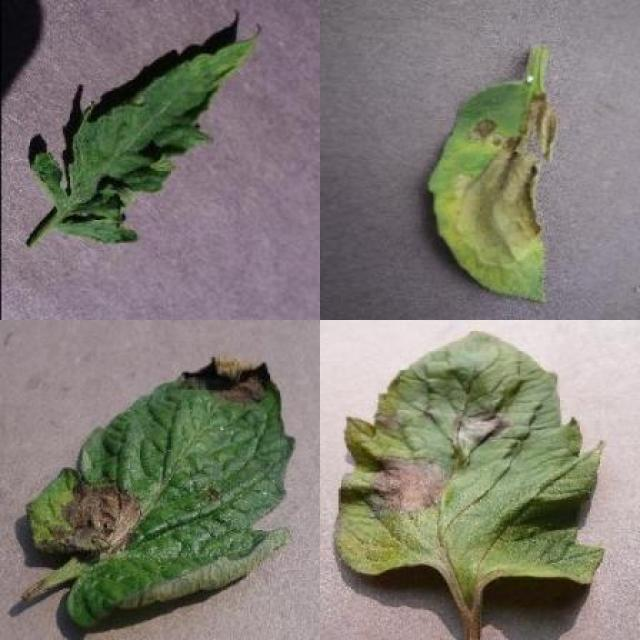Late Blight: (26, 356, 296, 630), (331, 327, 606, 587), (425, 78, 561, 303)
Mosaic Virus: (32, 24, 262, 249)
